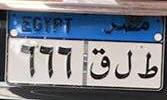6: (18, 44, 37, 78), (58, 45, 76, 79), (40, 45, 54, 77)
Taa: (137, 52, 159, 80)
laam: (114, 50, 134, 80)
qaaf: (87, 49, 112, 79)
